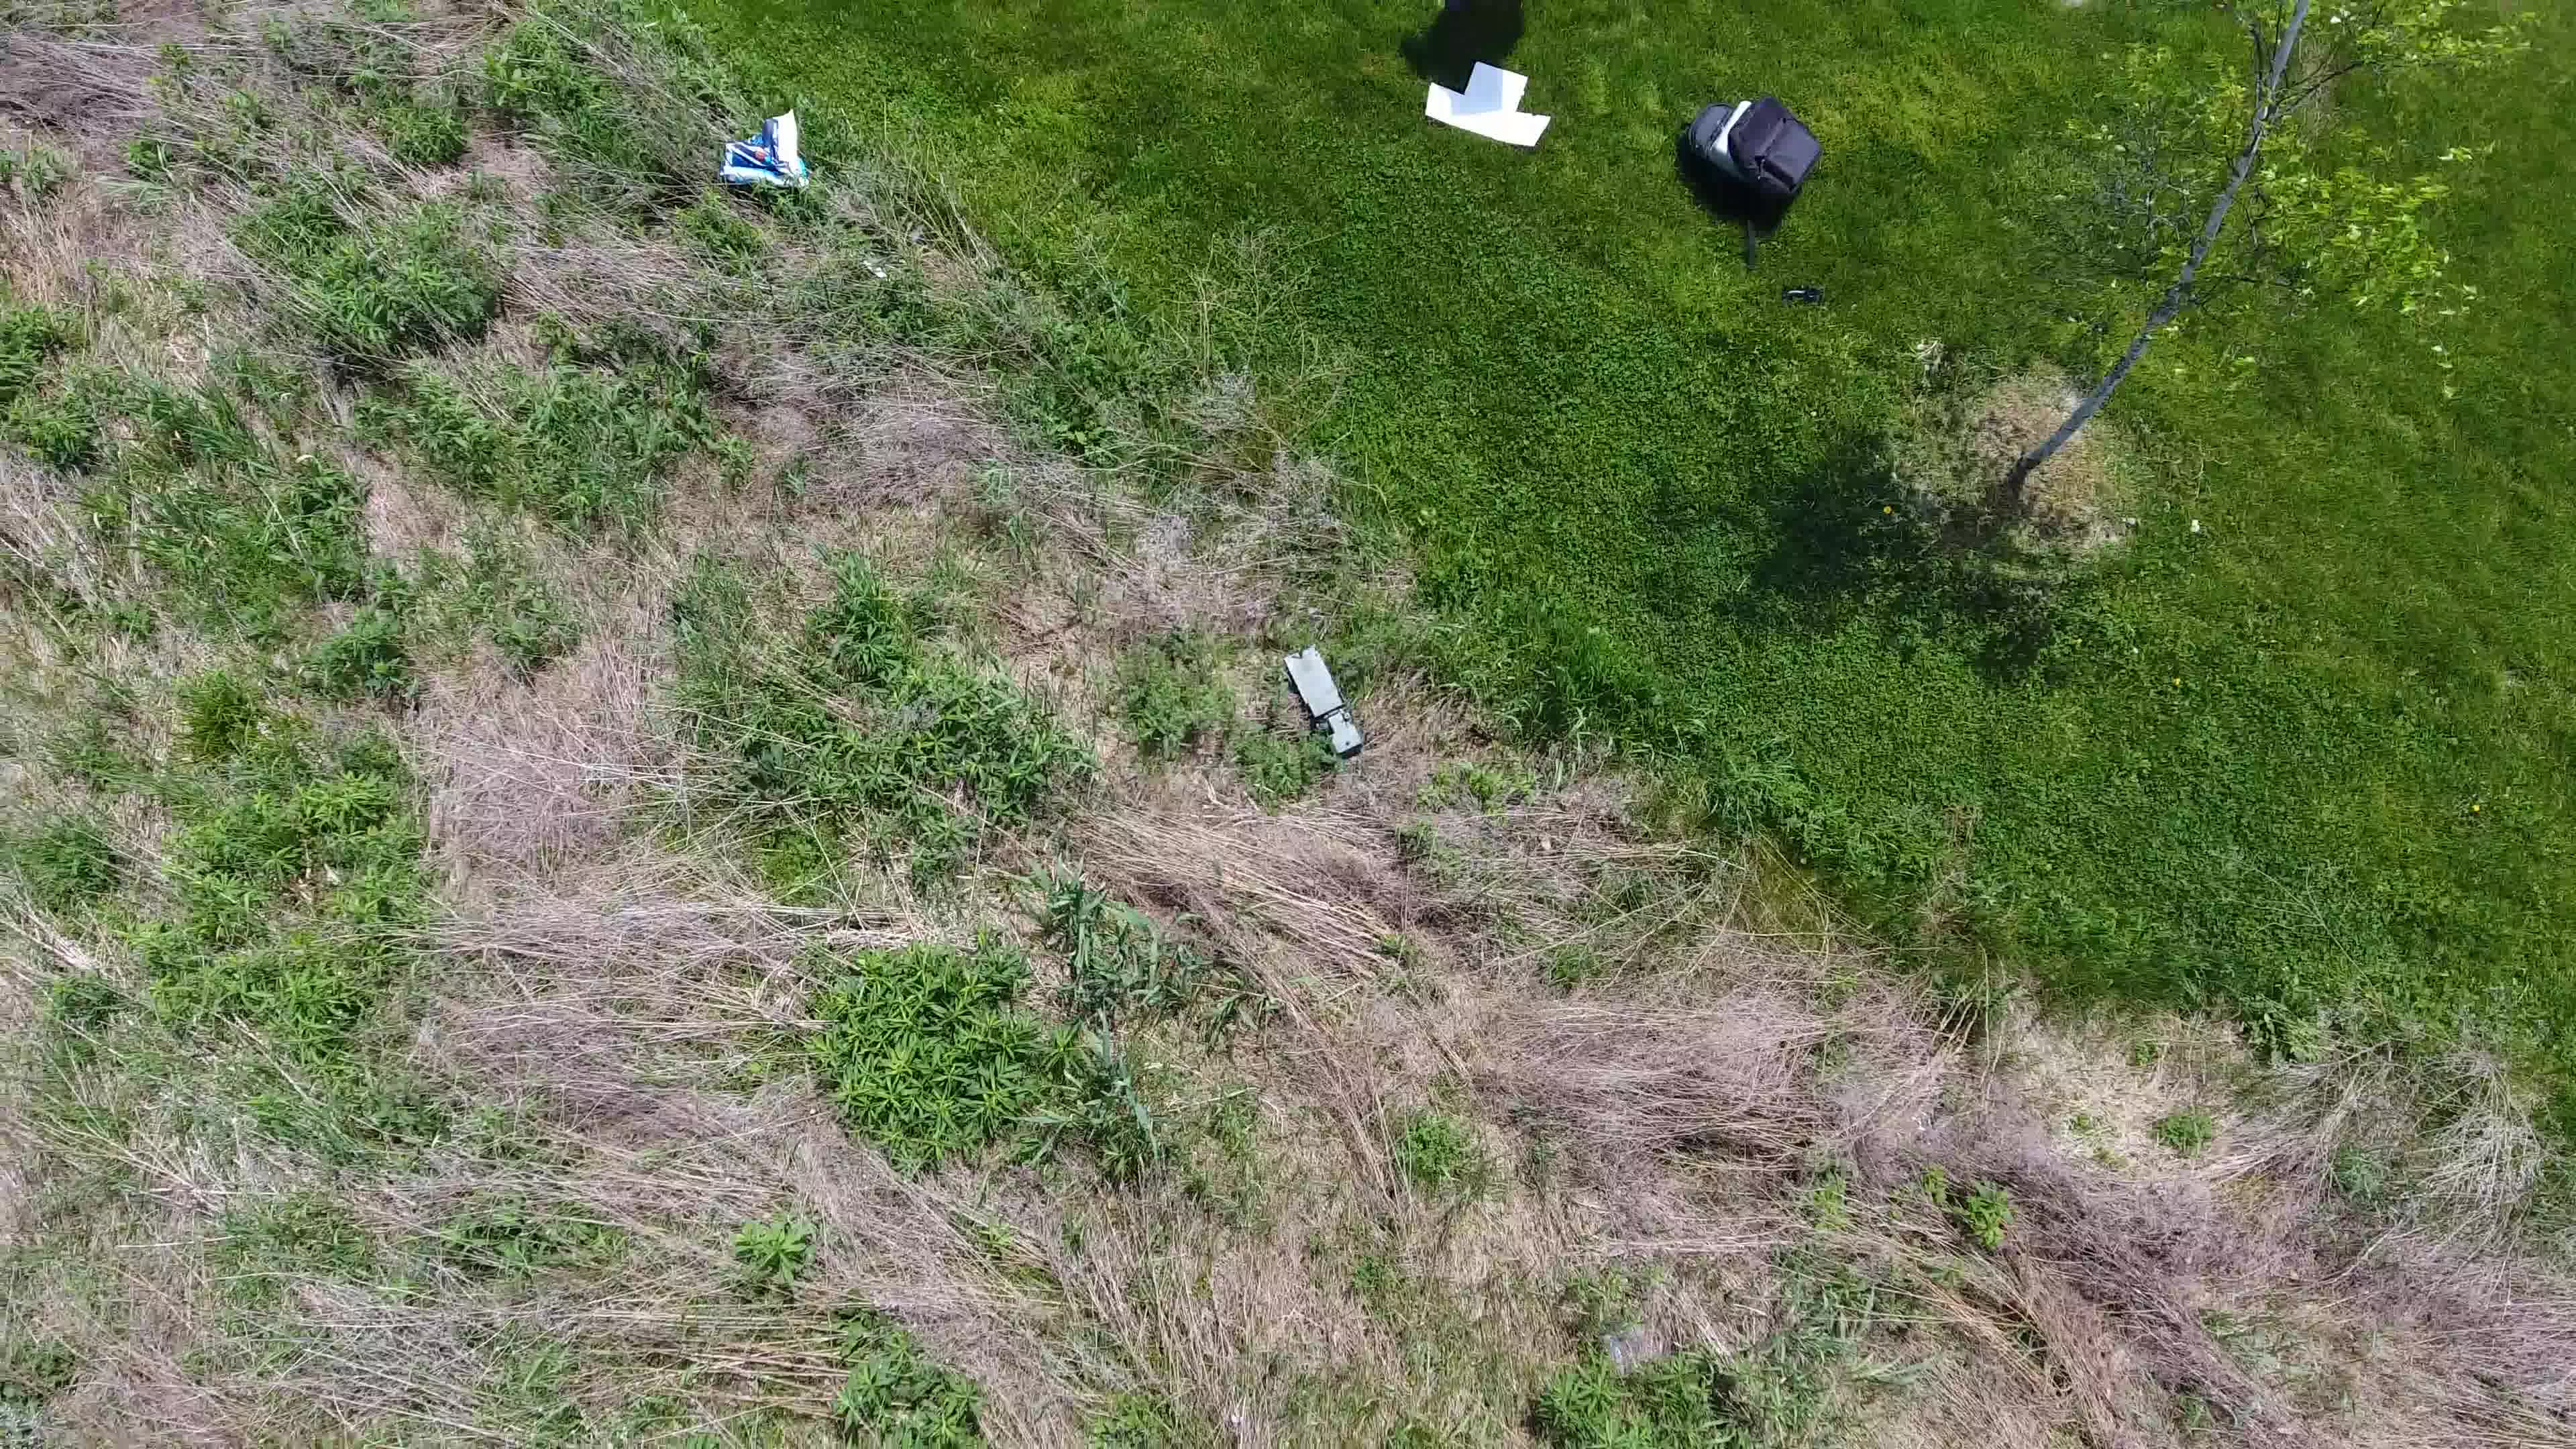transporter9: (1281, 644, 1366, 757)
